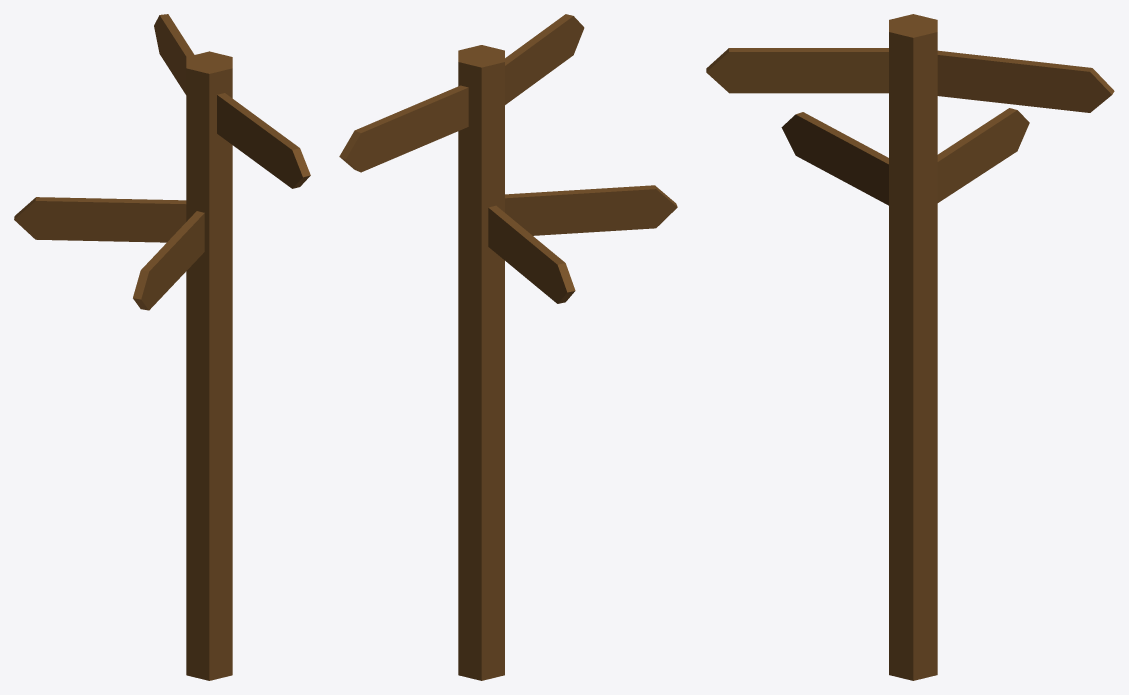
File: Signpost 2.fbx
3 views of the same model, side by side, from view 1: azimuth 30°, elevation 25°; view 2: azimuth 150°, elevation 25°; view 3: azimuth 270°, elevation 25° (orthographic). The views are drawn at different scales.
Parts seen in each view (by area): view 1: Signpost_2; view 2: Signpost_2; view 3: Signpost_2.
Part boxes in pixels (x1,y1,x2,y2): Signpost_2: (14, 14, 310, 680); Signpost_2: (339, 14, 677, 680); Signpost_2: (706, 14, 1114, 680).
Bounding box in the file's own units: 106 × 321 × 185.
1 material, 1 textured.
